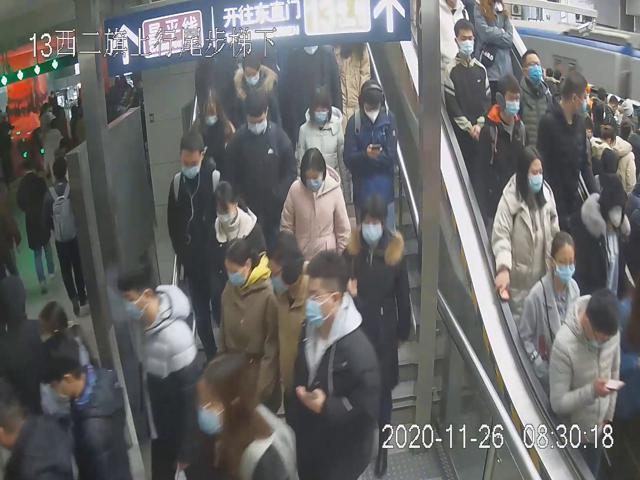person: (292, 246, 385, 480), (347, 192, 410, 473), (166, 129, 234, 366), (490, 143, 561, 316), (217, 234, 279, 414), (221, 93, 298, 237), (266, 231, 322, 427), (519, 228, 584, 381), (472, 73, 531, 226), (292, 82, 356, 221), (276, 144, 351, 261), (343, 77, 399, 231), (211, 176, 266, 317), (443, 16, 490, 172), (186, 80, 234, 172), (227, 50, 281, 131)
